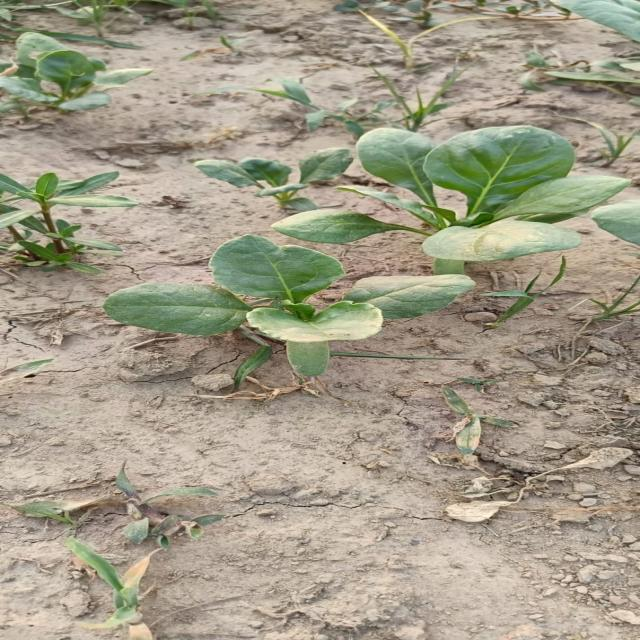plant: (104, 126, 640, 379)
